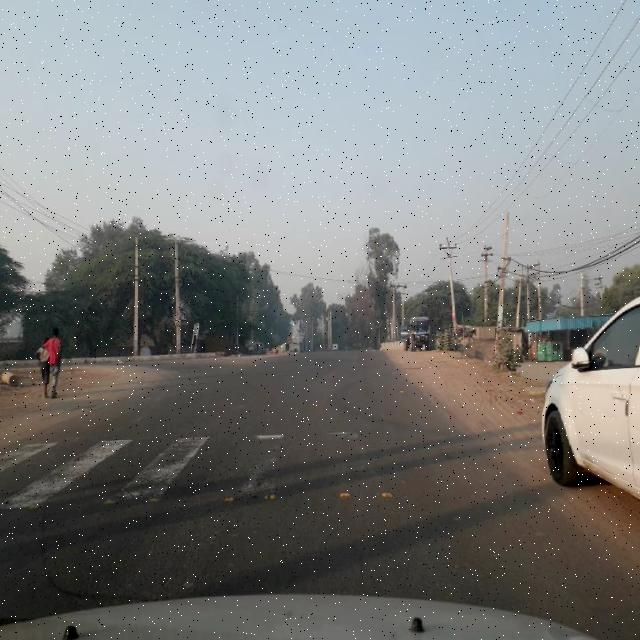D43: (1, 417, 453, 548)
